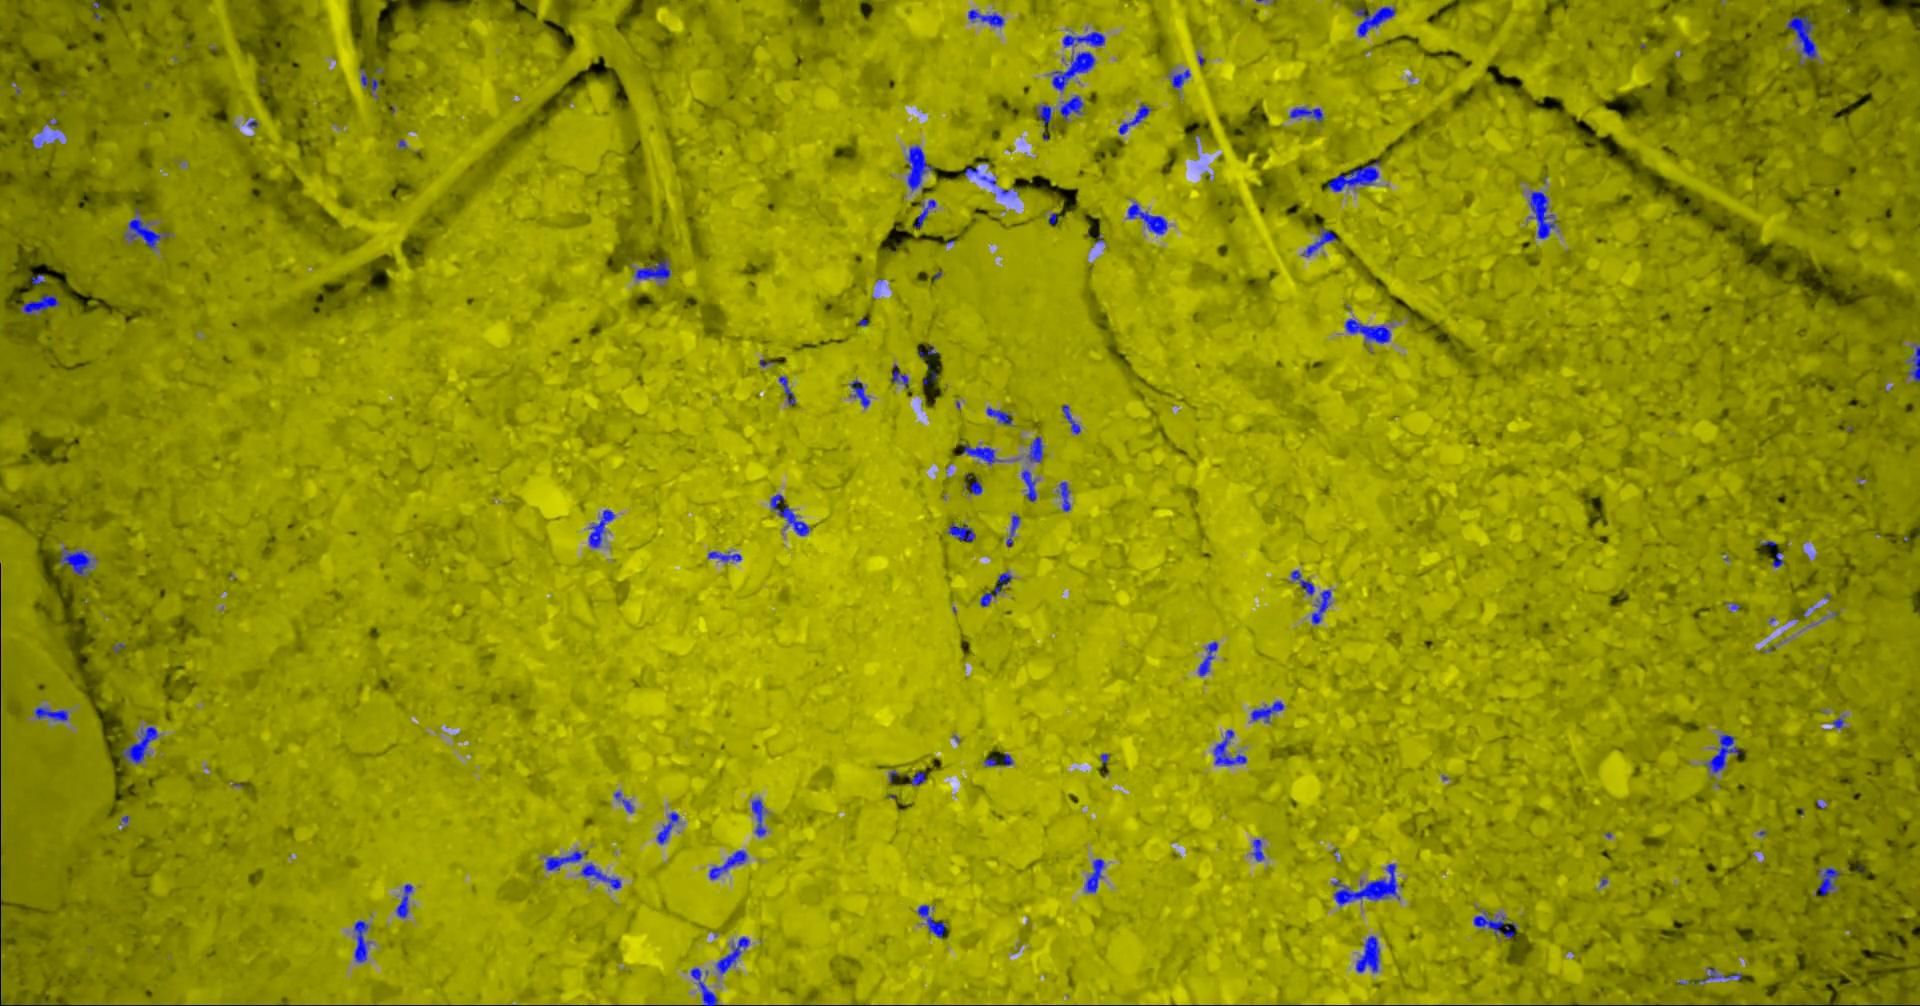ant: (1332, 862, 1401, 904), (1051, 51, 1095, 90), (1327, 159, 1379, 191), (770, 494, 809, 535), (121, 727, 157, 763), (1785, 15, 1816, 60), (1704, 734, 1740, 772), (124, 217, 168, 248), (715, 936, 749, 974), (905, 145, 933, 191), (1352, 6, 1396, 36), (1529, 191, 1556, 238), (1128, 202, 1167, 234), (1343, 318, 1390, 343), (1213, 729, 1246, 765), (1473, 911, 1516, 937), (979, 572, 1011, 606), (709, 850, 745, 879), (690, 967, 717, 1005), (588, 509, 615, 547), (580, 862, 620, 888), (1117, 104, 1150, 133), (1302, 227, 1335, 257), (58, 547, 93, 575), (917, 904, 945, 937), (1355, 935, 1379, 972), (543, 850, 587, 870), (634, 258, 670, 279), (22, 293, 58, 315), (959, 445, 998, 464), (1250, 700, 1283, 721), (1816, 868, 1841, 895), (1062, 30, 1103, 47), (657, 812, 678, 843), (1084, 857, 1103, 892), (1310, 589, 1330, 622), (1197, 641, 1217, 674), (913, 199, 935, 227), (1699, 967, 1742, 981), (968, 9, 1003, 25), (353, 920, 367, 962), (1290, 570, 1314, 594), (750, 798, 766, 836), (395, 883, 411, 917), (1059, 95, 1082, 119), (1288, 105, 1323, 121), (1062, 404, 1079, 433), (850, 380, 869, 406), (778, 375, 795, 405), (985, 406, 1011, 426), (1021, 469, 1036, 500), (34, 706, 67, 720), (1004, 514, 1018, 546), (947, 525, 974, 541), (359, 67, 378, 90), (1907, 344, 1919, 381), (613, 791, 632, 813), (1057, 481, 1070, 511), (1027, 436, 1043, 462), (890, 365, 908, 386), (983, 753, 1012, 766), (1170, 69, 1190, 86), (707, 551, 742, 561), (964, 476, 982, 494), (1036, 104, 1051, 124), (905, 770, 924, 785), (1252, 840, 1263, 861)
